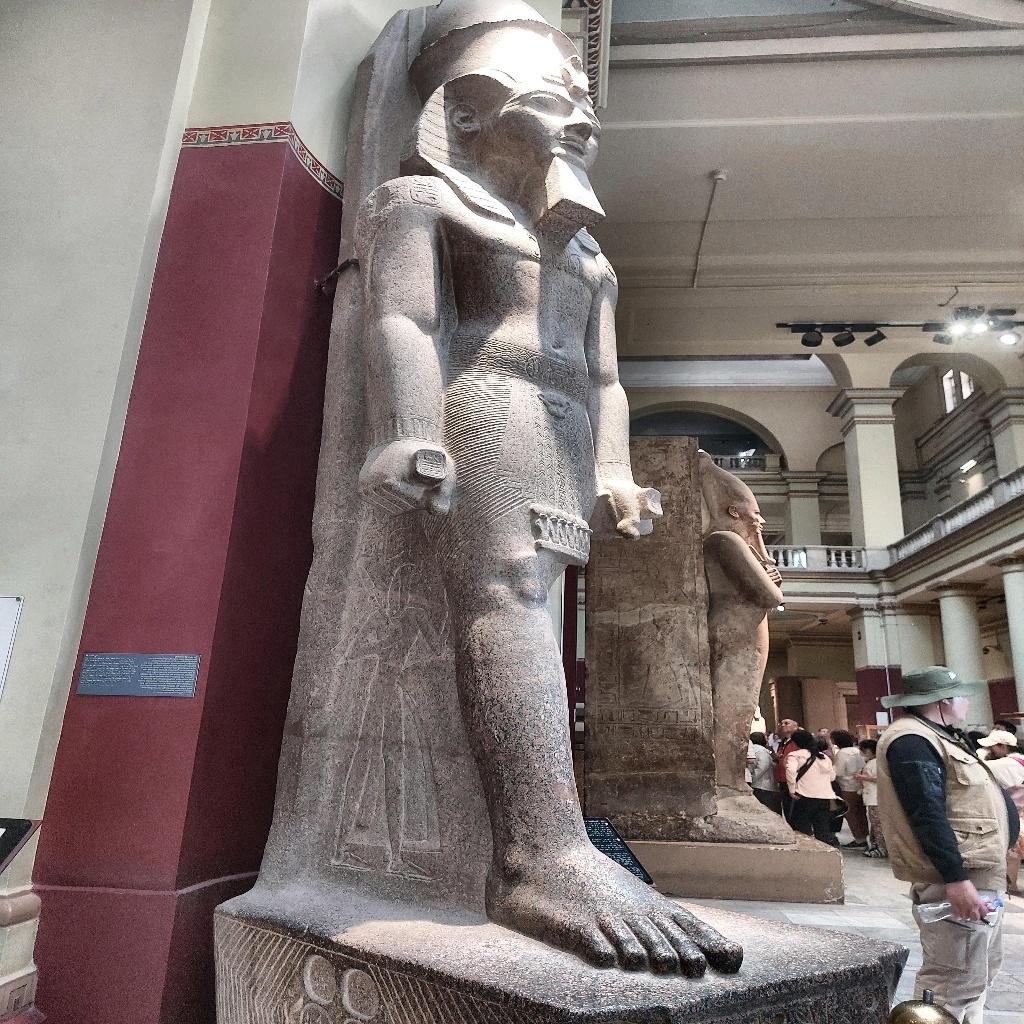Colossal Statue of Ramesses II: (218, 2, 750, 982)
